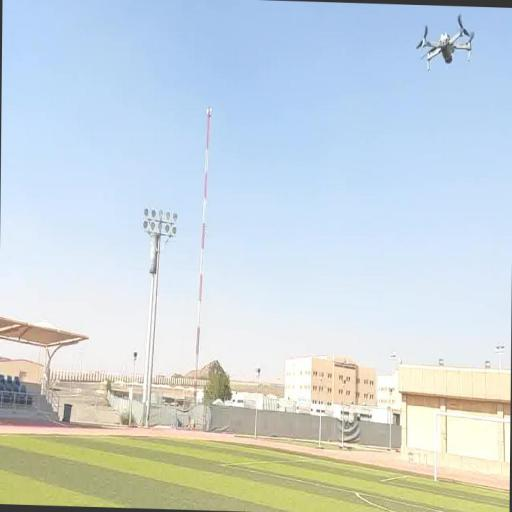drone: (407, 10, 478, 85)
